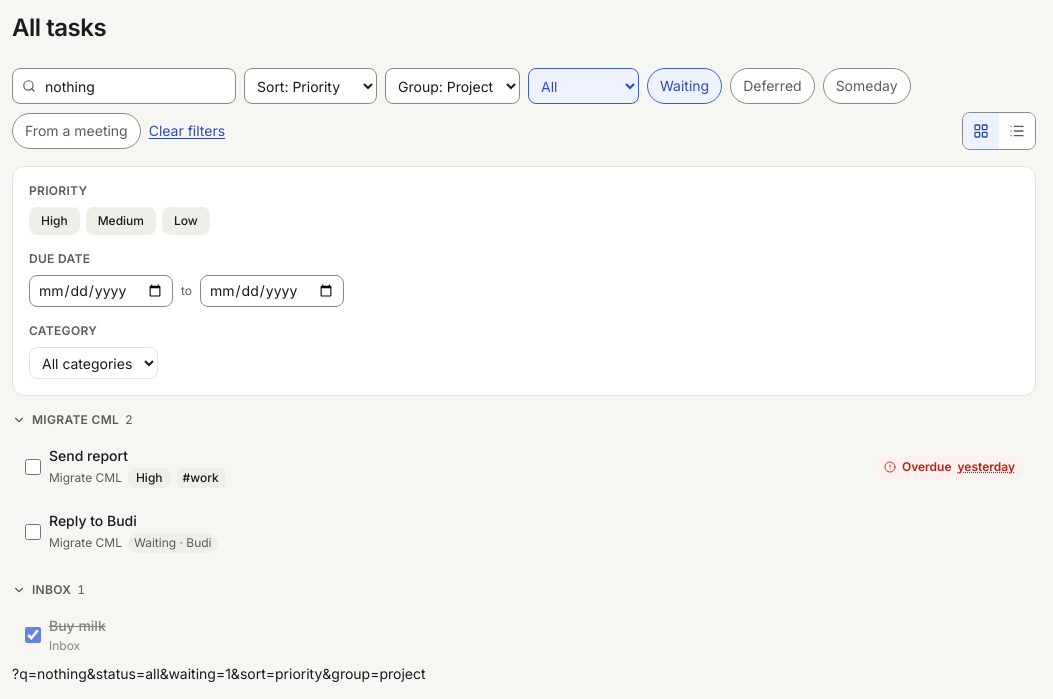
Test: All tasks page: search, sort, group and view › Clear filters resets search, status and chips but keeps sort and group
expect the button "Send report" is shown: met, box [49,446,868,466]
Click the button "Clear filters" at (187, 131), box [149,121,225,141]
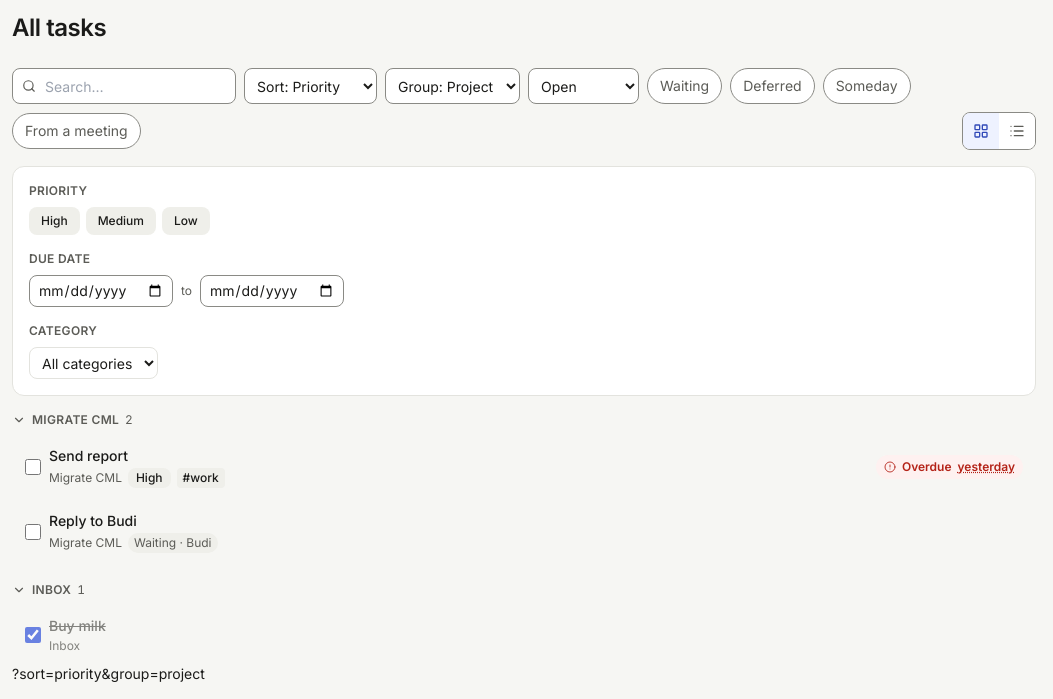
expect the text with test id "search" reads "?sort=priority&group=project": met, box [12,665,205,682]
